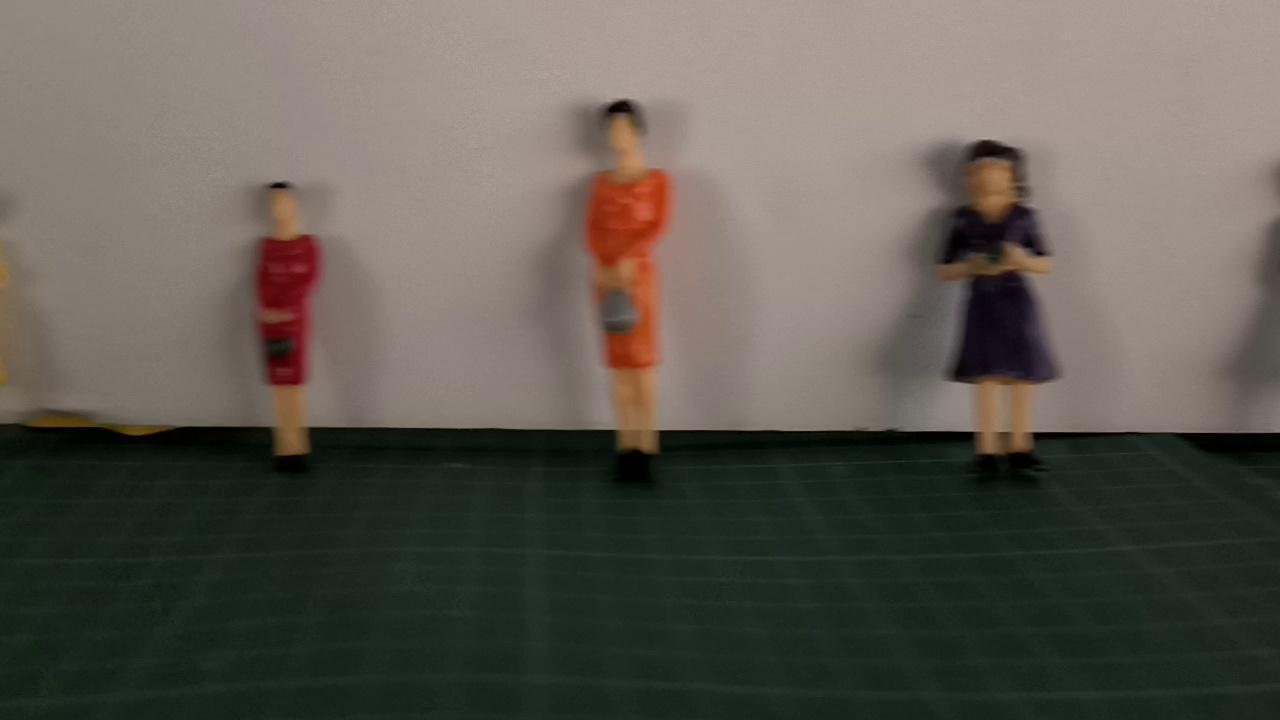human: (933, 140, 1064, 492), (589, 98, 675, 494), (253, 180, 327, 478), (0, 224, 21, 410)
